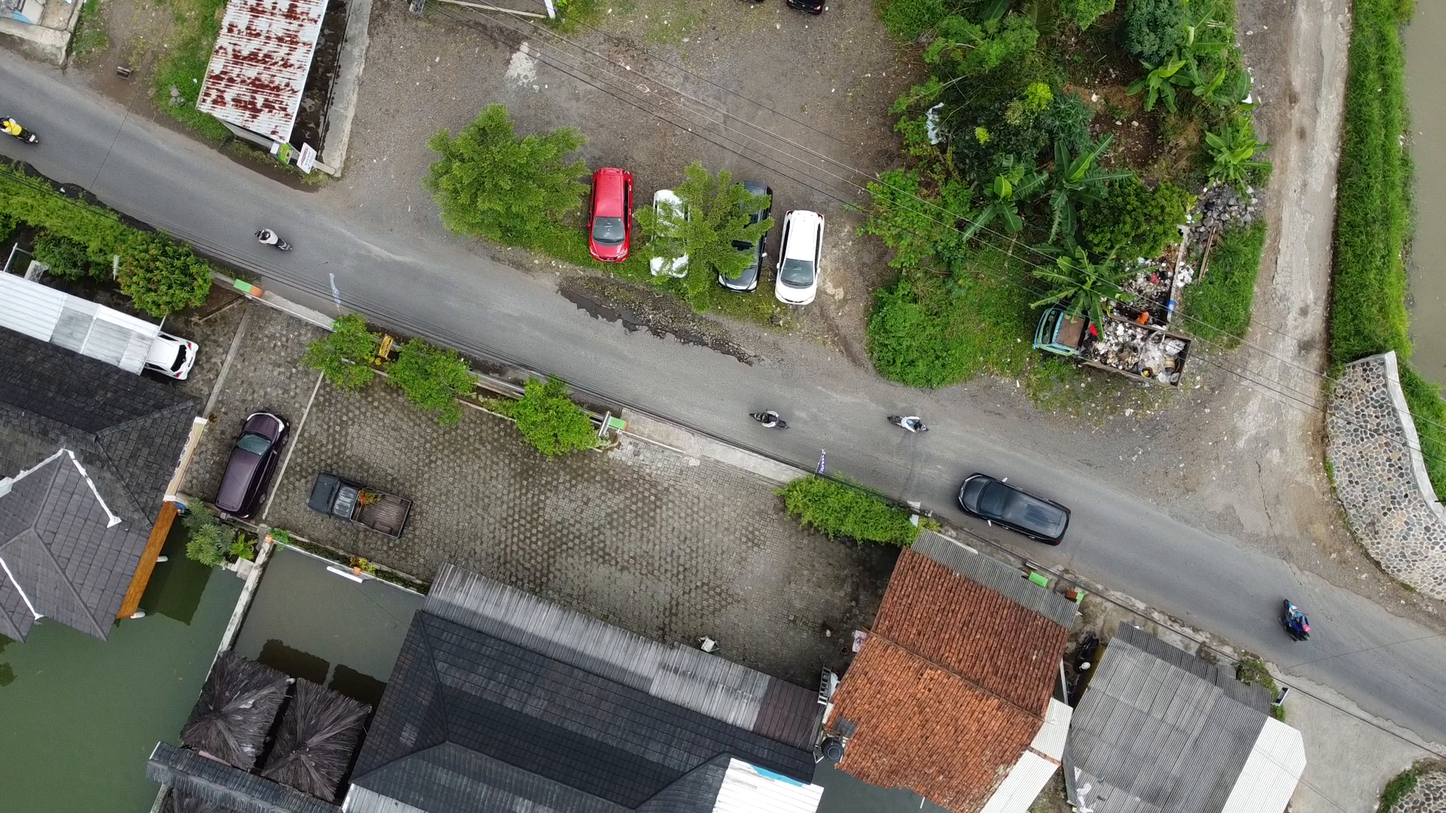mobil: (953, 463, 1076, 545), (203, 410, 295, 519), (301, 461, 424, 541), (715, 174, 776, 294), (774, 187, 831, 311), (585, 157, 638, 266), (647, 183, 696, 283), (147, 316, 211, 388)
